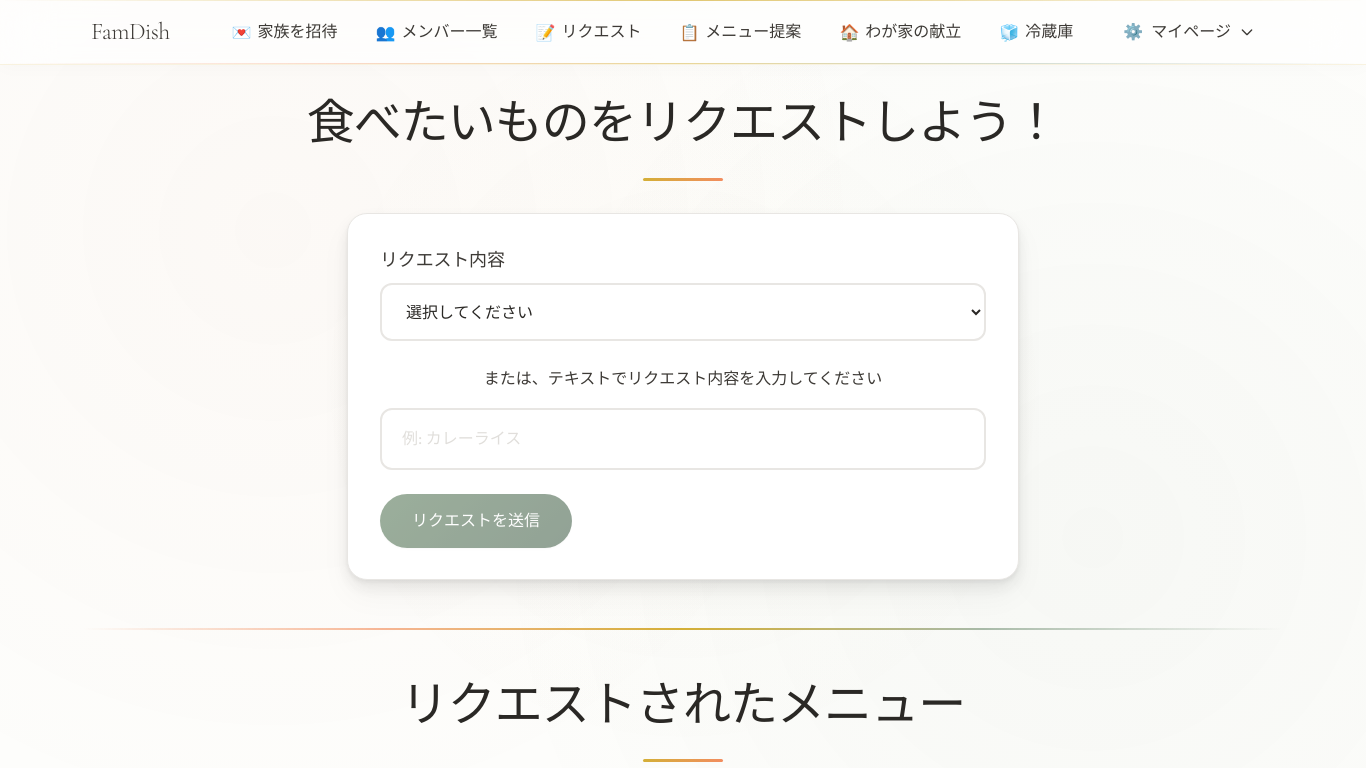
RequestPage › 作成失敗時にエラーメッセージを表示する
In the field with placeholder "例: カレーライス": (683,438) [380,408,986,469], type "カレーライス"
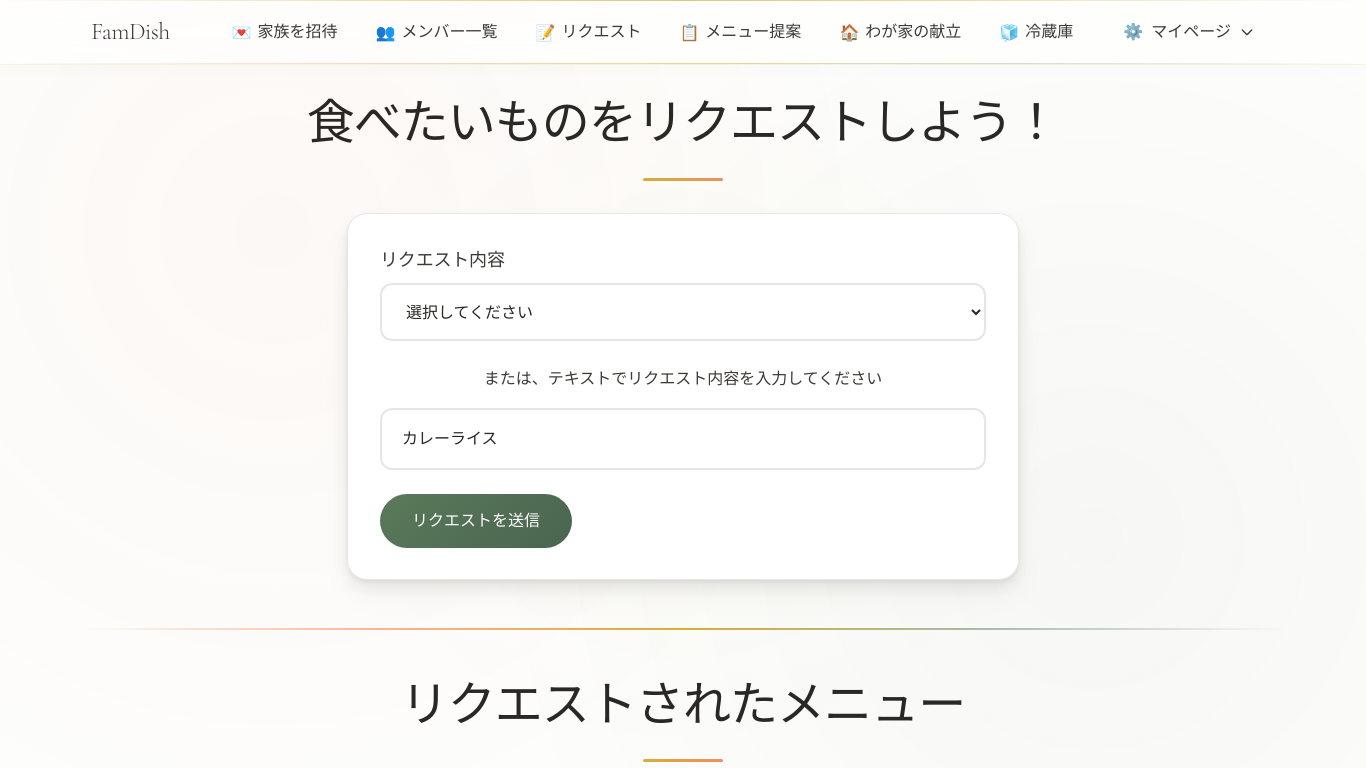
Click the button "リクエストを送信": (476,520) [380,493,572,547]
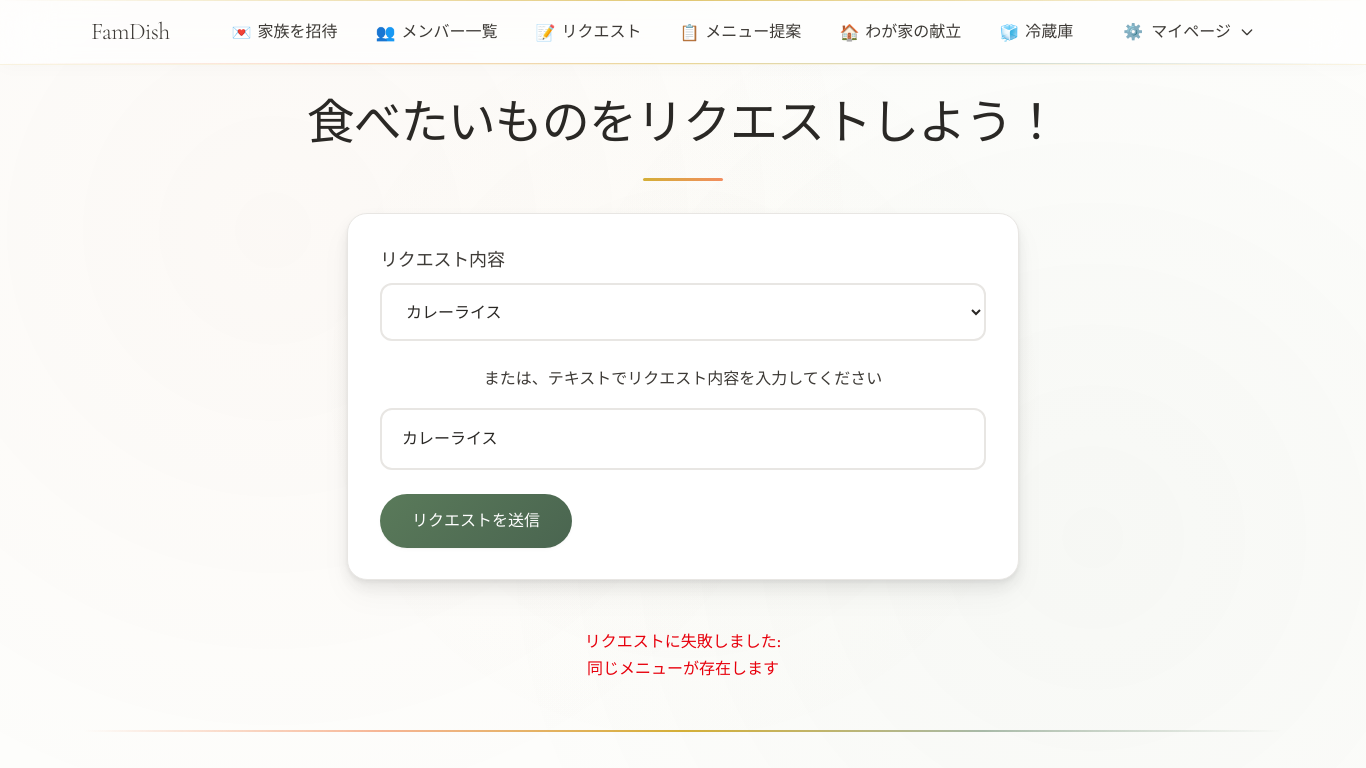
Result: the text "リクエストに失敗しました: 同じメニューが存在します" is shown at [585,631,781,678]
